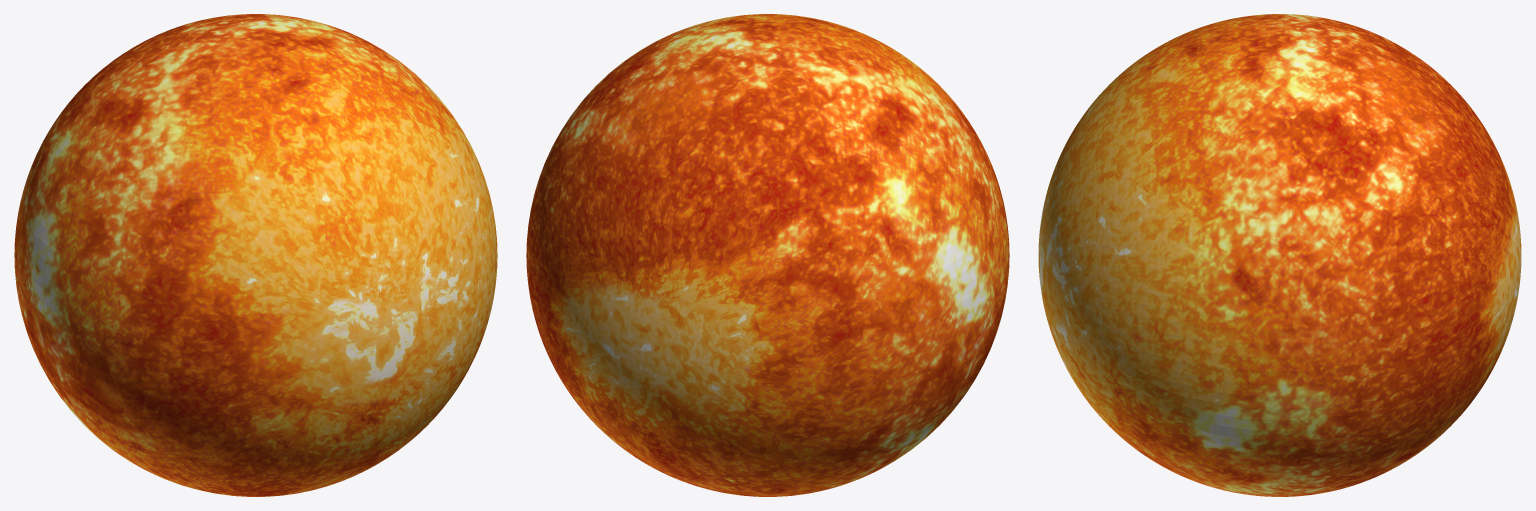
File: sun.obj
3 views of the same model, side by side, from view 1: azimuth 30°, elevation 25°; view 2: azimuth 150°, elevation 25°; view 3: azimuth 270°, elevation 25° (orthographic).
Visible parts, largest first — view 1: Object.1; view 2: Object.1; view 3: Object.1.
Boxes of the visible parts, x1,y1,x2,y2 form: Object.1: [14, 14, 497, 496]; Object.1: [526, 14, 1009, 496]; Object.1: [1038, 14, 1521, 496].
Bounding box in the file's own units: 200 × 200 × 200.
Materials: 1 (1 with a texture image).
